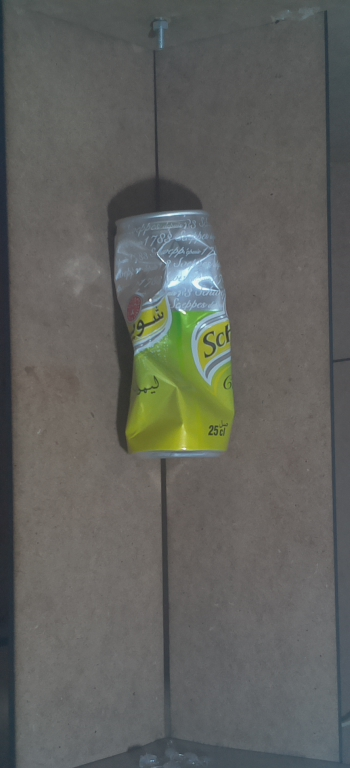Canette: (102, 202, 248, 470)
